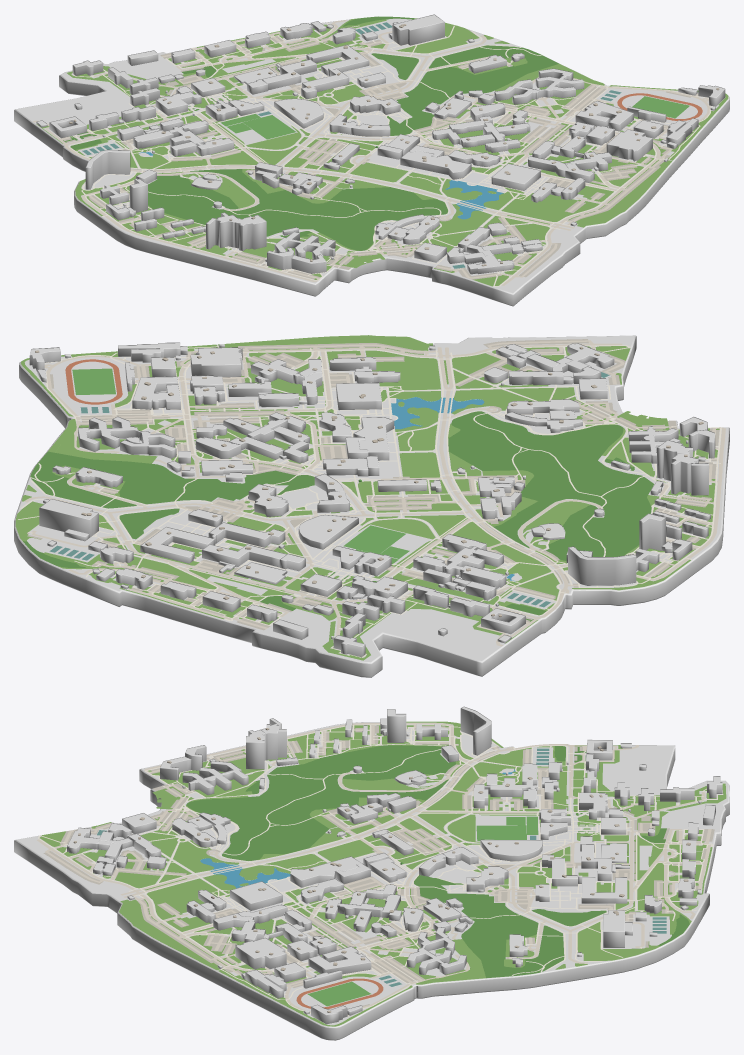
The model's file is campus.glb.
3 views of the same model, one above another, from view 1: azimuth 30°, elevation 25°; view 2: azimuth 150°, elevation 25°; view 3: azimuth 270°, elevation 25° (orthographic). The views are drawn at different scales.
Parts seen in each view (by area): view 1: ground, buildings, island_sides, units; view 2: ground, buildings, island_sides, units; view 3: ground, buildings, island_sides, units.
Part boxes in pixels (x1,y1,x2,y2): ground: (14,16,729,294); buildings: (36,14,725,274); island_sides: (14,75,729,306); units: (69,24,719,266); ground: (14,335,729,663); buildings: (29,342,715,657); island_sides: (14,336,729,677); units: (35,346,703,617); ground: (14,721,729,1027); buildings: (67,706,722,1024); island_sides: (14,748,729,1040); units: (73,728,690,1012).
Size of the model in its own units: 1346 by 85.37 by 1330.
